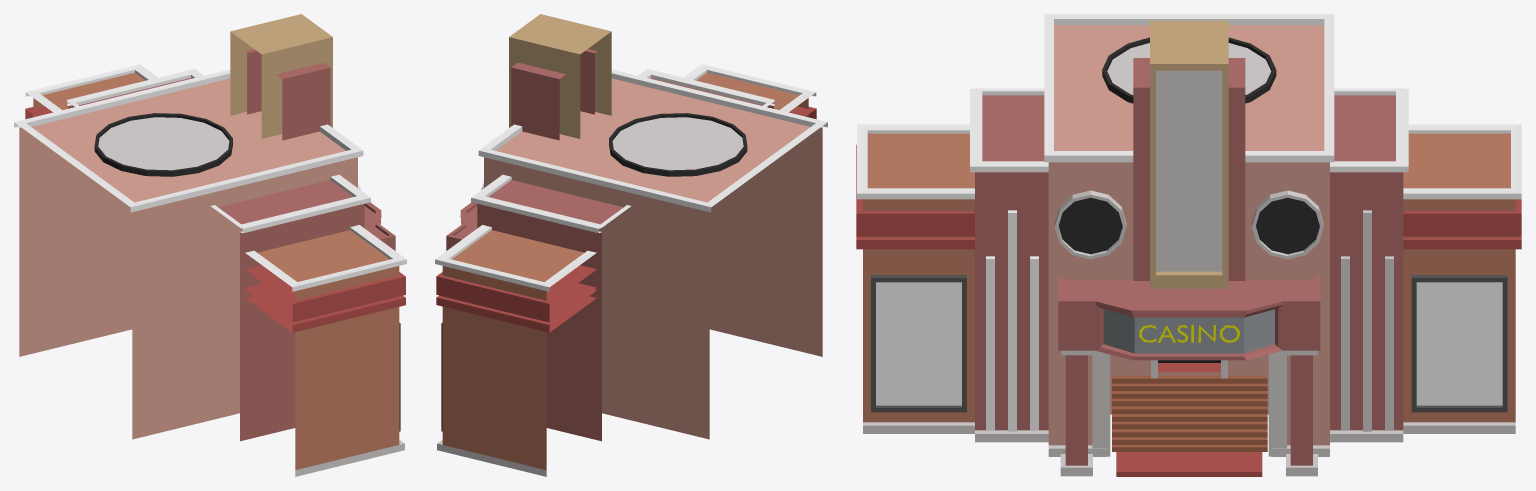
The model's file is LP_CasinoHouse.fbx.
The picture shows the model from 3 angles, left to right: view 1: azimuth 30°, elevation 25°; view 2: azimuth 150°, elevation 25°; view 3: azimuth 270°, elevation 25°; orthographic projection. The views are drawn at different scales.
Parts seen in each view (by area): view 1: Cube, Cube.002, Cube.001, Circle.001, Cube.003, Cube.009, Cube.004, Cube.005; view 2: Cube, Cube.002, Cube.001, Circle.001, Cube.003, Cube.009, Cube.004, Cube.005; view 3: Cube, Cube.001, Cube.002, Cube.006, Cube.003, Cube.005, Plane, Cube.008, Cube.009, Cube.004, Circle, Cube.011 (+4 smaller).
Boxes of the visible parts, x1,y1,x2,y2 form: Cube: (14, 69, 363, 439); Cube.002: (25, 64, 406, 476); Cube.001: (67, 69, 370, 441); Circle.001: (94, 113, 232, 176); Cube.003: (230, 14, 332, 138); Cube.009: (25, 106, 405, 332); Cube.004: (244, 49, 330, 140); Cube.005: (364, 202, 395, 250); Cube: (478, 69, 827, 439); Cube.002: (435, 64, 816, 476); Cube.001: (471, 69, 774, 441); Circle.001: (609, 113, 747, 176); Cube.003: (509, 14, 611, 138); Cube.009: (436, 106, 816, 332); Cube.004: (511, 49, 597, 140); Cube.005: (446, 202, 477, 250); Cube: (1044, 14, 1334, 456); Cube.001: (970, 88, 1408, 442); Cube.002: (857, 124, 1521, 433); Cube.006: (871, 275, 1507, 412); Cube.003: (1150, 20, 1228, 288); Cube.005: (1058, 276, 1320, 360); Plane: (1112, 375, 1267, 451); Cube.008: (986, 210, 1393, 431); Cube.009: (856, 144, 1521, 249); Cube.004: (1133, 58, 1245, 280); Circle: (1055, 190, 1323, 259); Cube.011: (1060, 350, 1317, 476).
Bounding box in the file's own units: 764 × 820 × 1235.
